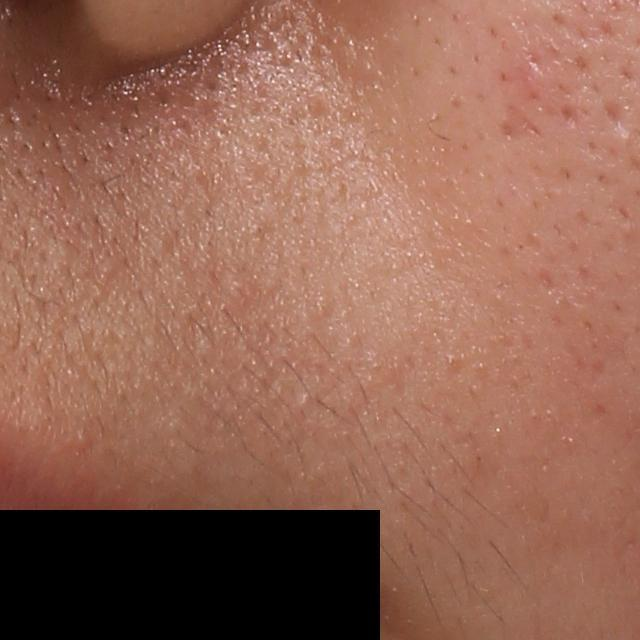atrophic_scar: (499, 103, 541, 140), (600, 99, 631, 139)
comedo: (74, 429, 91, 449)
